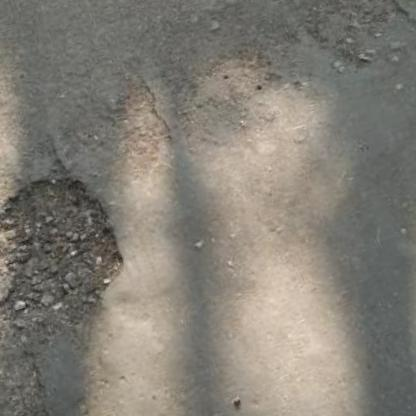pothole: (0, 154, 144, 345)
